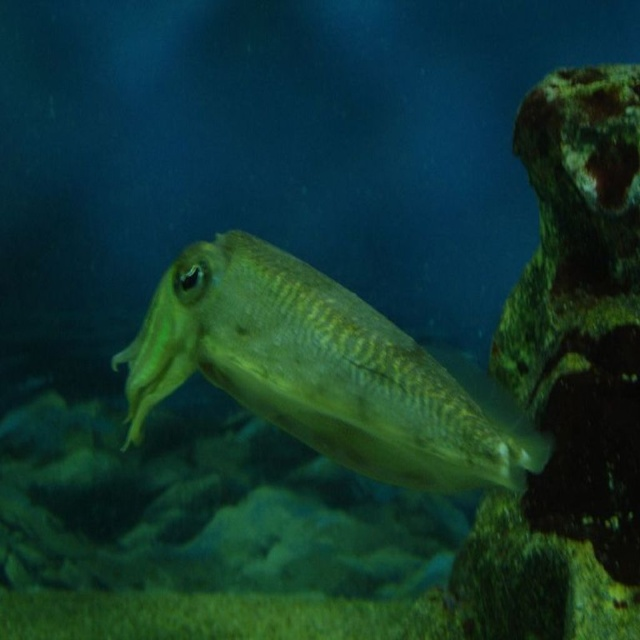Fish: (110, 230, 553, 497)
